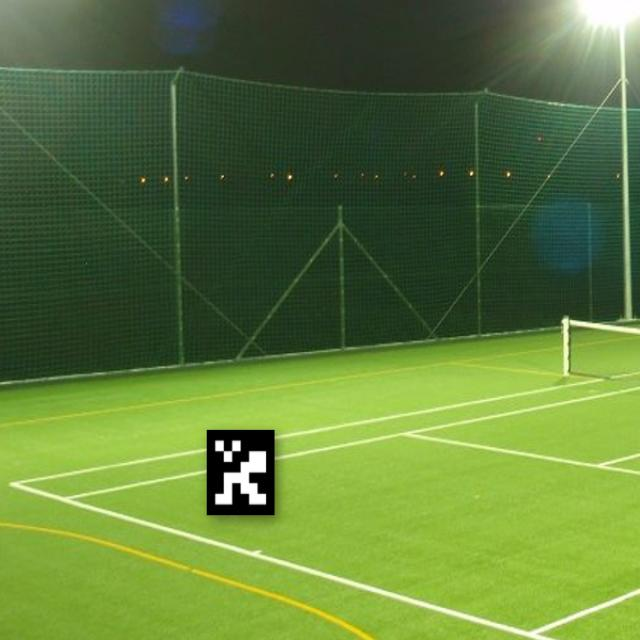marker: (202, 418, 283, 527)
